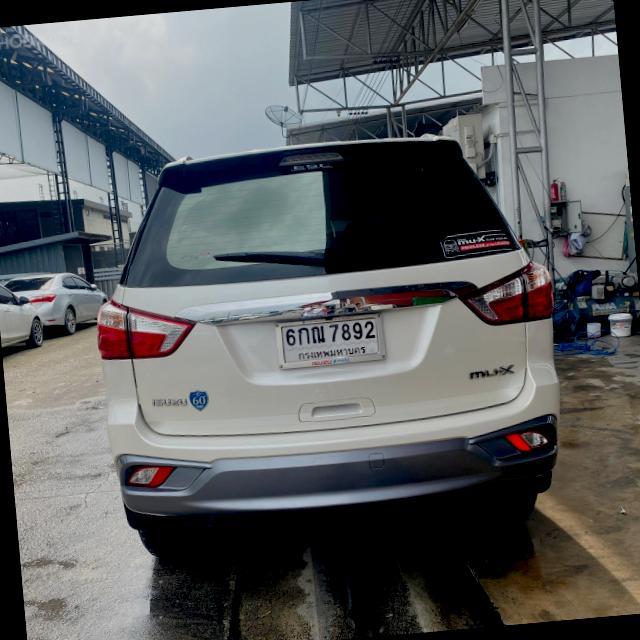license_plate: (268, 306, 389, 372)
